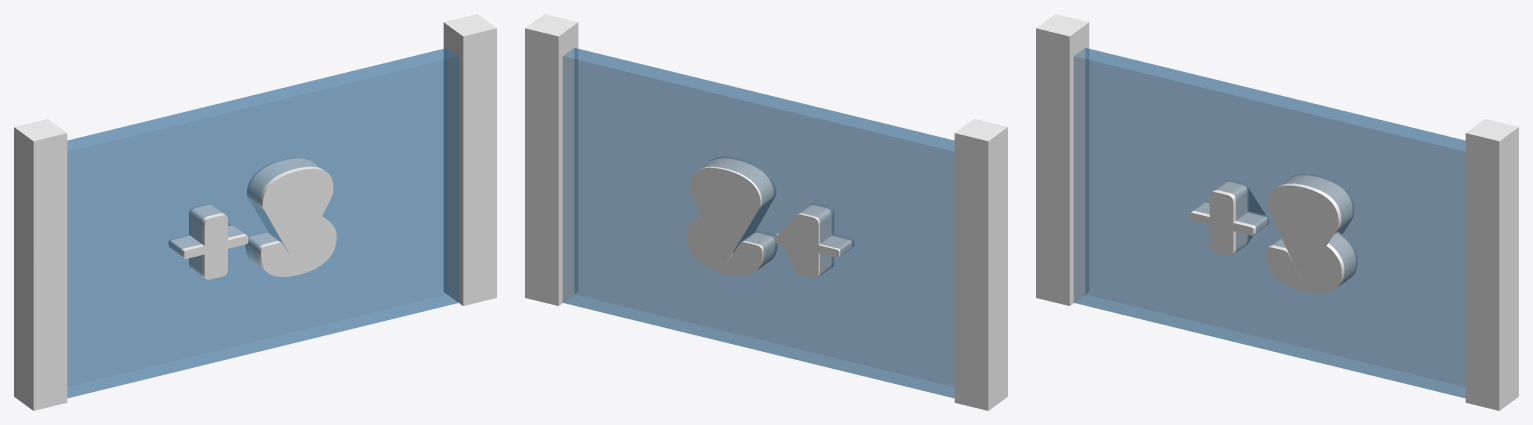
3 renders of one model, left to right at view 1: azimuth 30°, elevation 25°; view 2: azimuth 150°, elevation 25°; view 3: azimuth 330°, elevation 25°, orthographic.
Parts seen in each view (by area): view 1: Cube, Cube_1, Cube_2, 3_2, __3; view 2: Cube, Cube_1, Cube_2, 3_2, __3; view 3: Cube, Cube_2, Cube_1, 3_2, __3.
Part boxes in pixels (box(x1,y1,x2,y2)): Cube: box(67, 48, 458, 397); Cube_1: box(14, 119, 67, 410); Cube_2: box(443, 14, 496, 305); 3_2: box(245, 157, 336, 276); __3: box(169, 204, 248, 279); Cube: box(563, 48, 954, 397); Cube_1: box(954, 119, 1007, 410); Cube_2: box(525, 14, 578, 305); 3_2: box(686, 156, 777, 276); __3: box(775, 203, 854, 278); Cube: box(1074, 48, 1465, 397); Cube_2: box(1465, 119, 1518, 410); Cube_1: box(1036, 14, 1089, 305); 3_2: box(1266, 174, 1356, 293); __3: box(1189, 181, 1268, 256).
Size of the model in its own units: 393 by 219 by 28.63.
